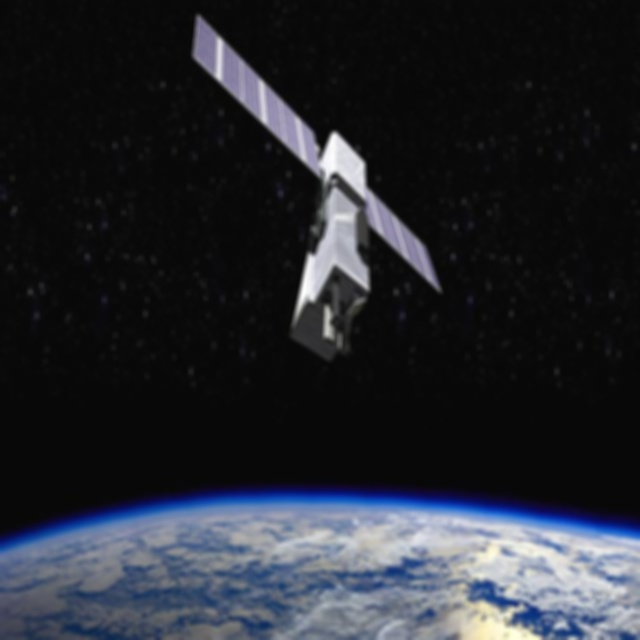medium_debris: (181, 0, 450, 377)
